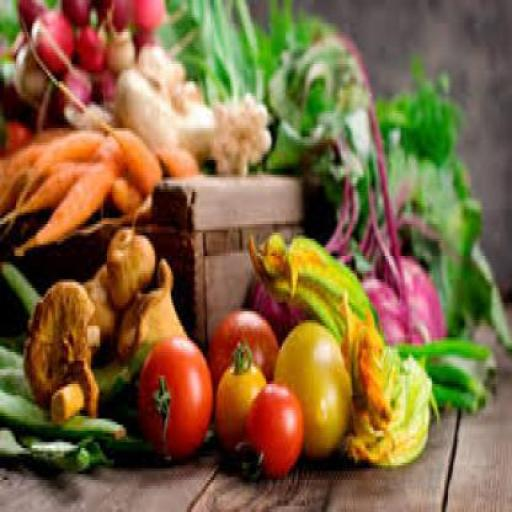biodegradable: (264, 11, 398, 279), (390, 145, 510, 346), (335, 293, 432, 466), (244, 230, 374, 335), (157, 0, 298, 96), (50, 76, 162, 186), (273, 318, 350, 456), (22, 277, 96, 416), (136, 329, 210, 460), (14, 160, 116, 250), (116, 253, 187, 378), (358, 241, 444, 341), (208, 306, 276, 428), (380, 55, 454, 163), (10, 125, 104, 206), (0, 383, 126, 443), (0, 154, 86, 224), (216, 337, 264, 454), (242, 378, 302, 469), (205, 93, 271, 172), (114, 61, 175, 140), (3, 128, 57, 213), (103, 224, 155, 305), (20, 427, 112, 471), (140, 38, 198, 96), (82, 262, 117, 358), (387, 332, 489, 364), (248, 276, 306, 332), (426, 361, 486, 413), (30, 6, 73, 70), (111, 0, 166, 47), (176, 98, 208, 158), (14, 43, 46, 102), (0, 262, 36, 314), (153, 136, 200, 174), (110, 168, 145, 218), (72, 22, 104, 76), (58, 66, 93, 111), (106, 18, 135, 69), (56, 0, 102, 27), (0, 367, 32, 399), (2, 116, 32, 148), (94, 64, 116, 102), (0, 425, 26, 454), (0, 337, 23, 369)
